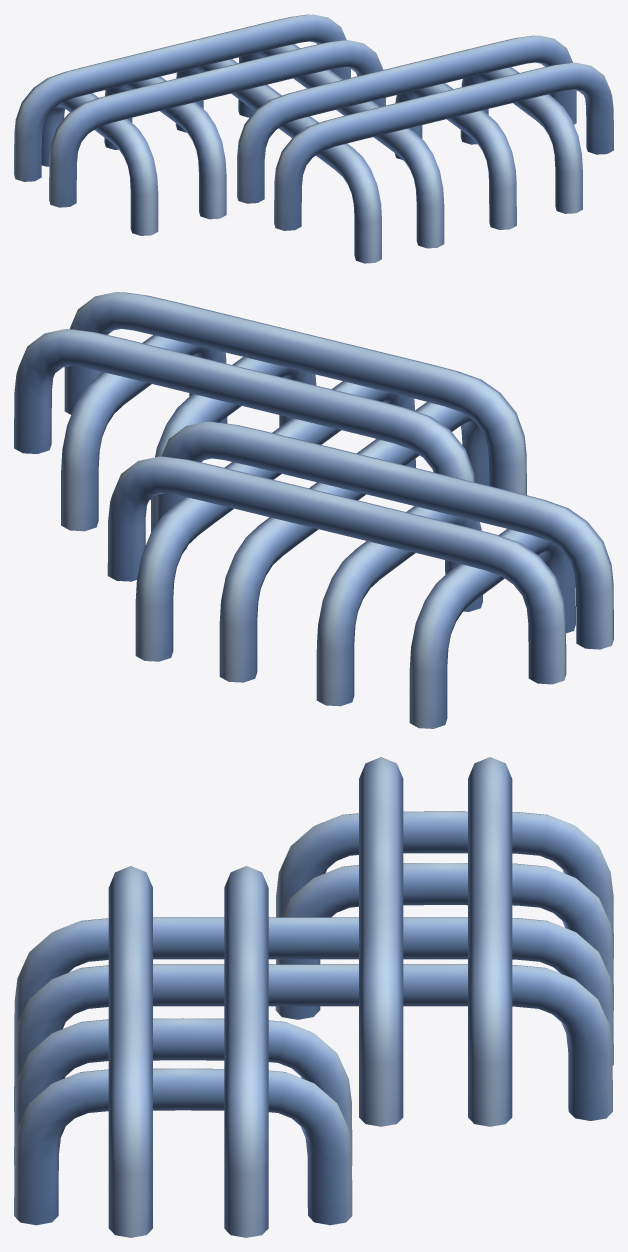
The model's file is Lock_Z.fbx.
3 views of the same model, one above another, from view 1: azimuth 30°, elevation 25°; view 2: azimuth 150°, elevation 25°; view 3: azimuth 270°, elevation 25° (orthographic). The views are drawn at different scales.
Parts seen in each view (by area): view 1: Lock_Z; view 2: Lock_Z; view 3: Lock_Z.
Boxes of the visible parts, x1,y1,x2,y2 form: Lock_Z: [14, 14, 613, 263]; Lock_Z: [14, 292, 613, 728]; Lock_Z: [14, 757, 613, 1237].
Bounding box in the file's own units: 3.3 × 0.7657 × 2.29.
